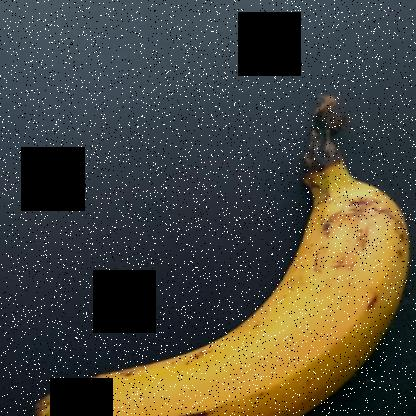ripe: (35, 165, 415, 415)
